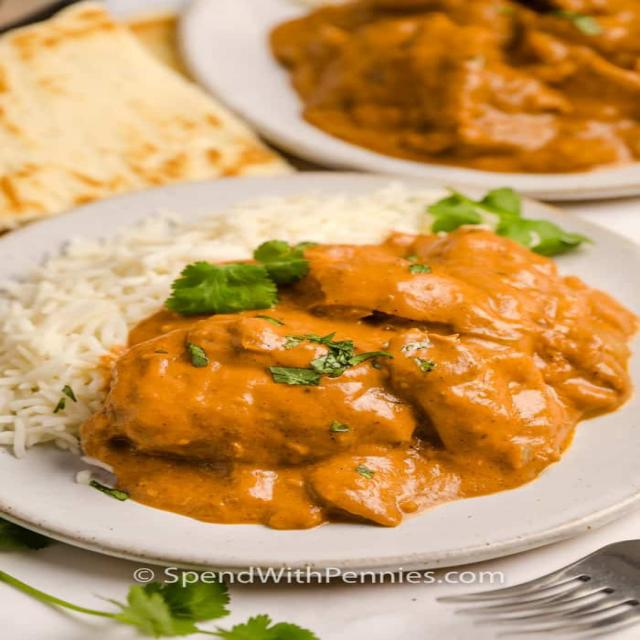Butter Chicken: (88, 232, 640, 532), (274, 2, 640, 174)
